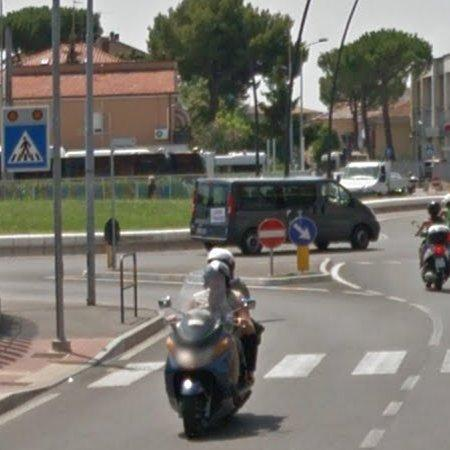motorcycles: (159, 297, 252, 438)
